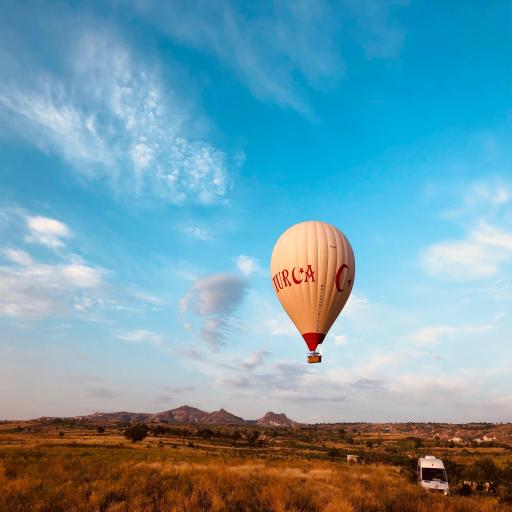hot air ballon: (267, 222, 359, 367)
